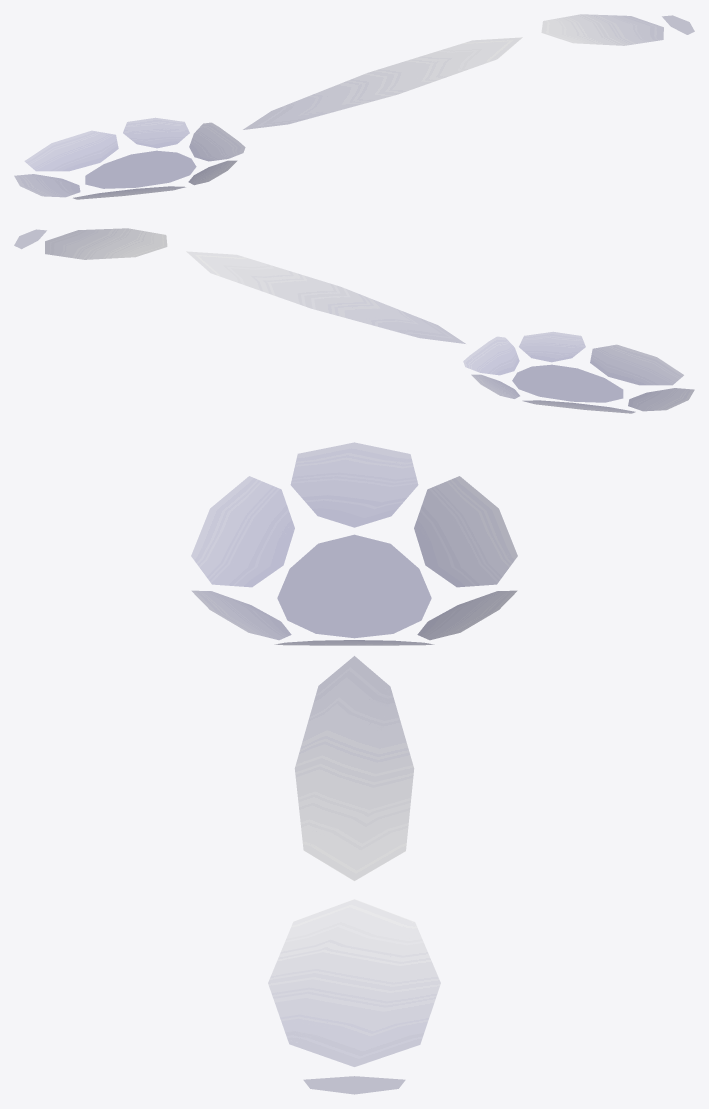
File: utensil-spoon.glb
3 renders of one model, top to bottom at view 1: azimuth 30°, elevation 25°; view 2: azimuth 150°, elevation 25°; view 3: azimuth 270°, elevation 25°, orthographic. The views are drawn at different scales.
Parts seen in each view (by area): view 1: utensil-spoon; view 2: utensil-spoon; view 3: utensil-spoon.
Boxes of the visible parts, box(x1,y1,x2,y2) form: utensil-spoon: box(14, 14, 694, 199); utensil-spoon: box(14, 228, 694, 413); utensil-spoon: box(191, 442, 517, 1094).
Size of the model in its own units: 0.4708 by 0.0271 by 0.0996.
1 material, 1 textured.
